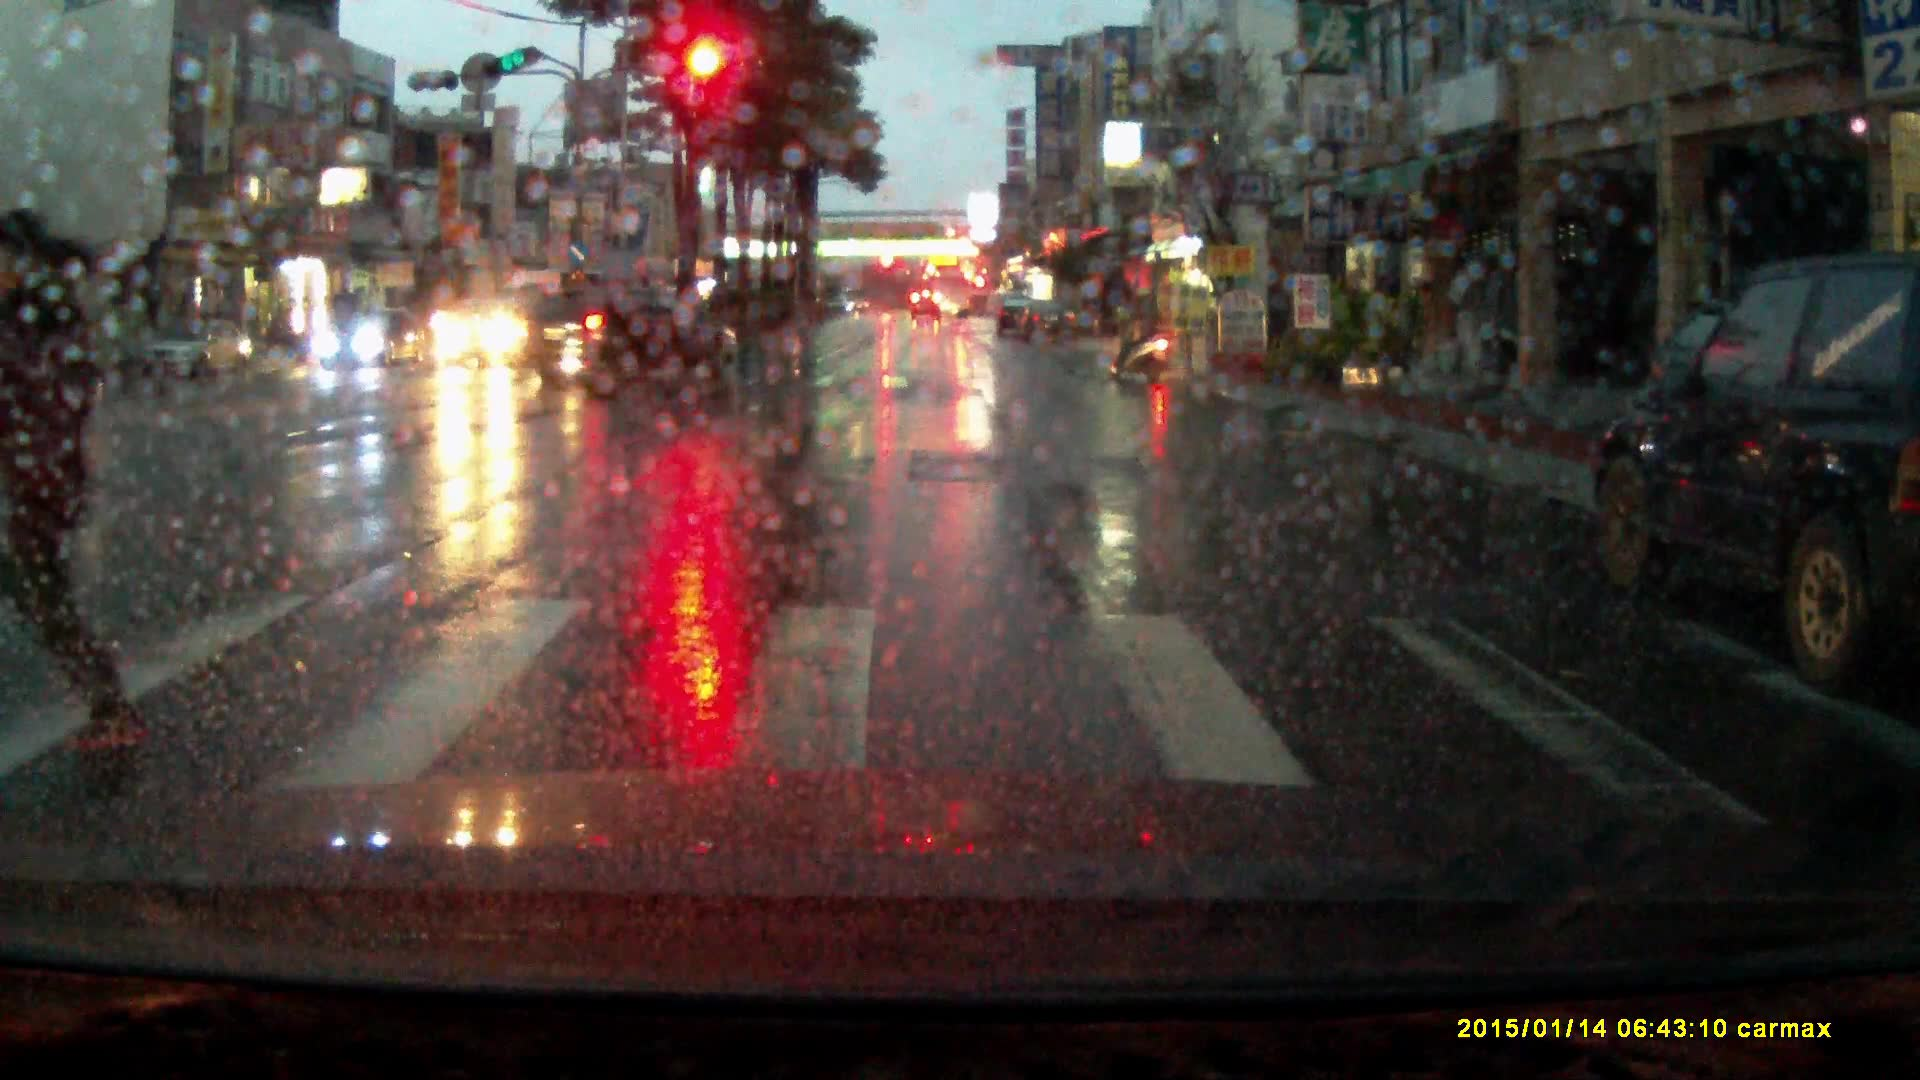rider: (1113, 278, 1178, 386)
vehicle: (1582, 248, 1920, 683), (515, 283, 743, 396), (1, 318, 107, 427), (317, 304, 429, 373), (142, 314, 253, 380), (494, 268, 591, 341), (574, 288, 664, 340), (1017, 300, 1079, 346), (931, 264, 973, 321), (995, 295, 1030, 338), (911, 291, 943, 322)
